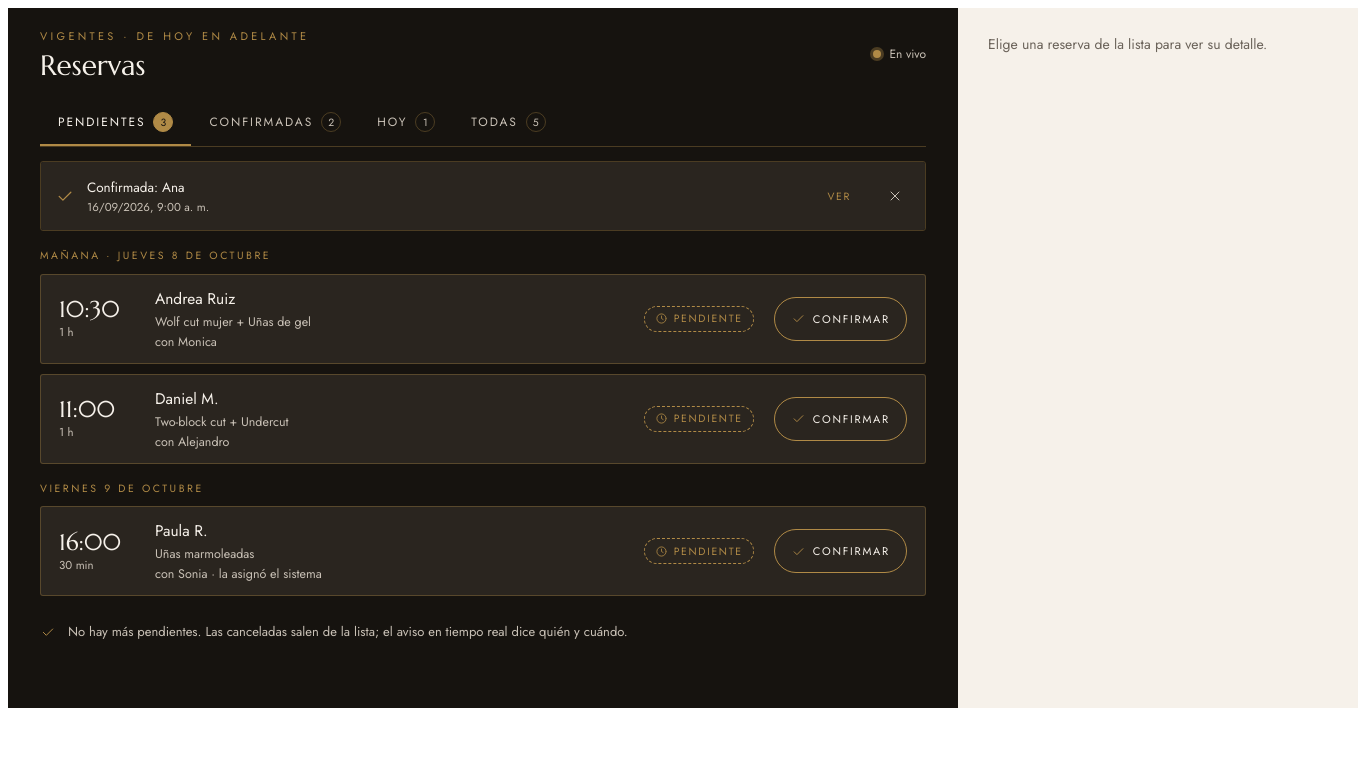
la bandeja · avisos fijados (A5) › «Ver» cambia a «Todas» si la reserva no está en la pestaña
Step 1. Click the button with test id "ver-aviso" → (839, 196), box [817,174,861,218]
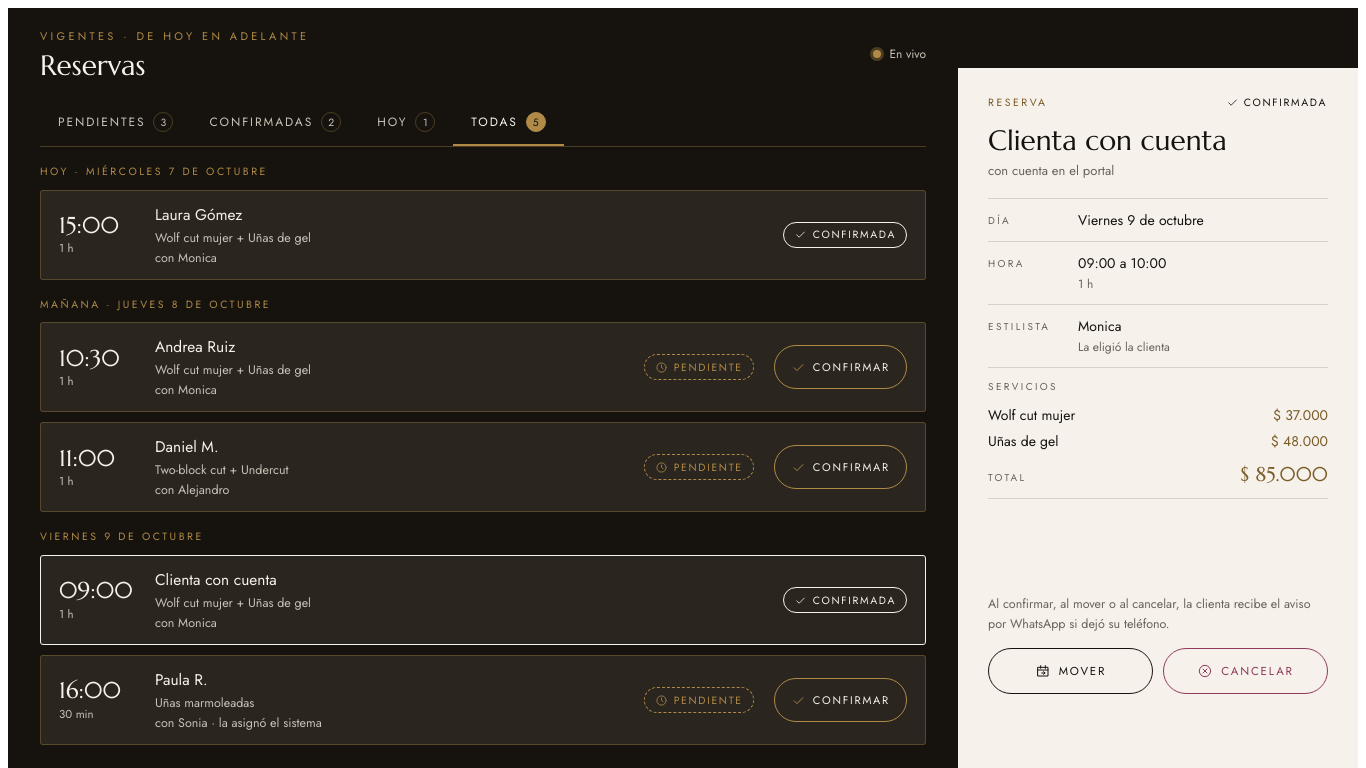
Expected: the heading with test id "detalle-nombre" reads "Clienta con cuenta", [988,123,1227,158]
